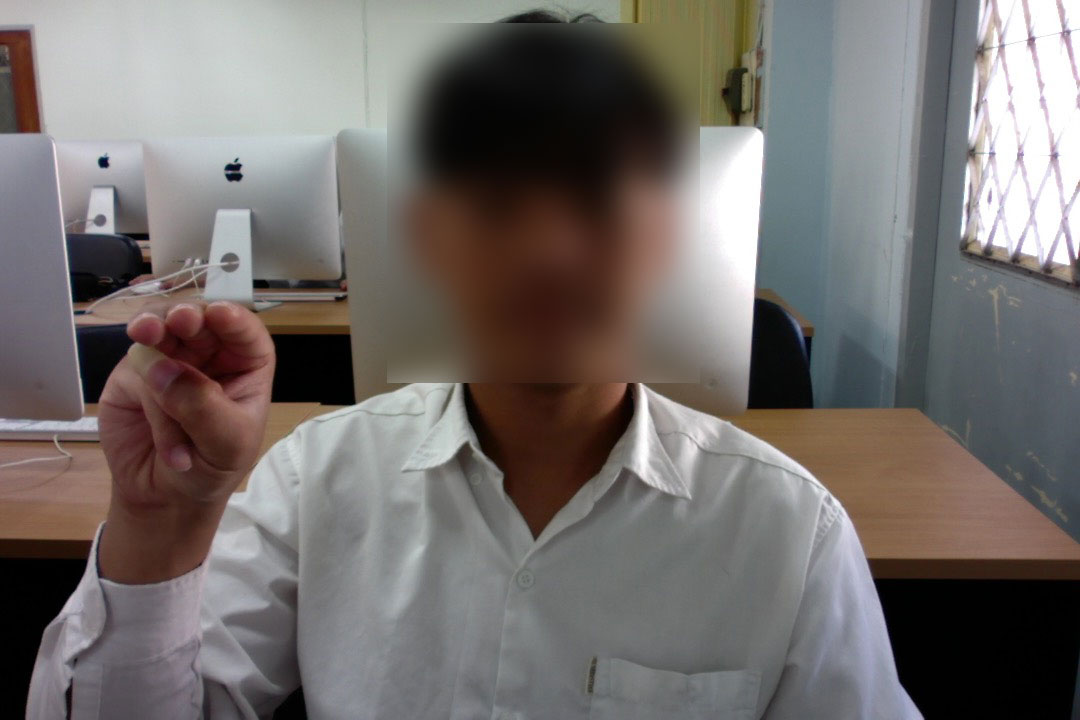mor: (92, 289, 279, 524)
